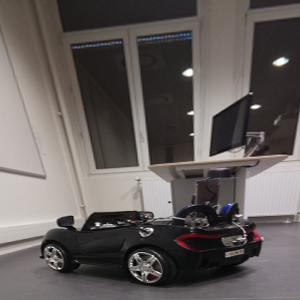big: (37, 204, 266, 288)
